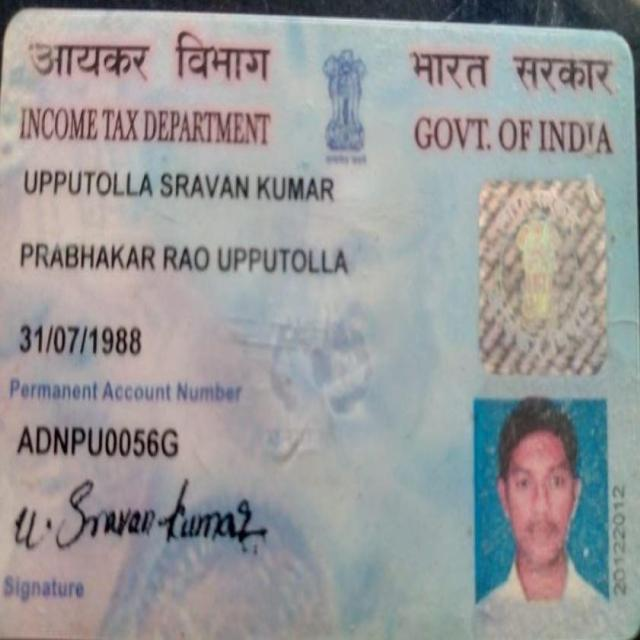pan_card: (0, 19, 639, 639)
